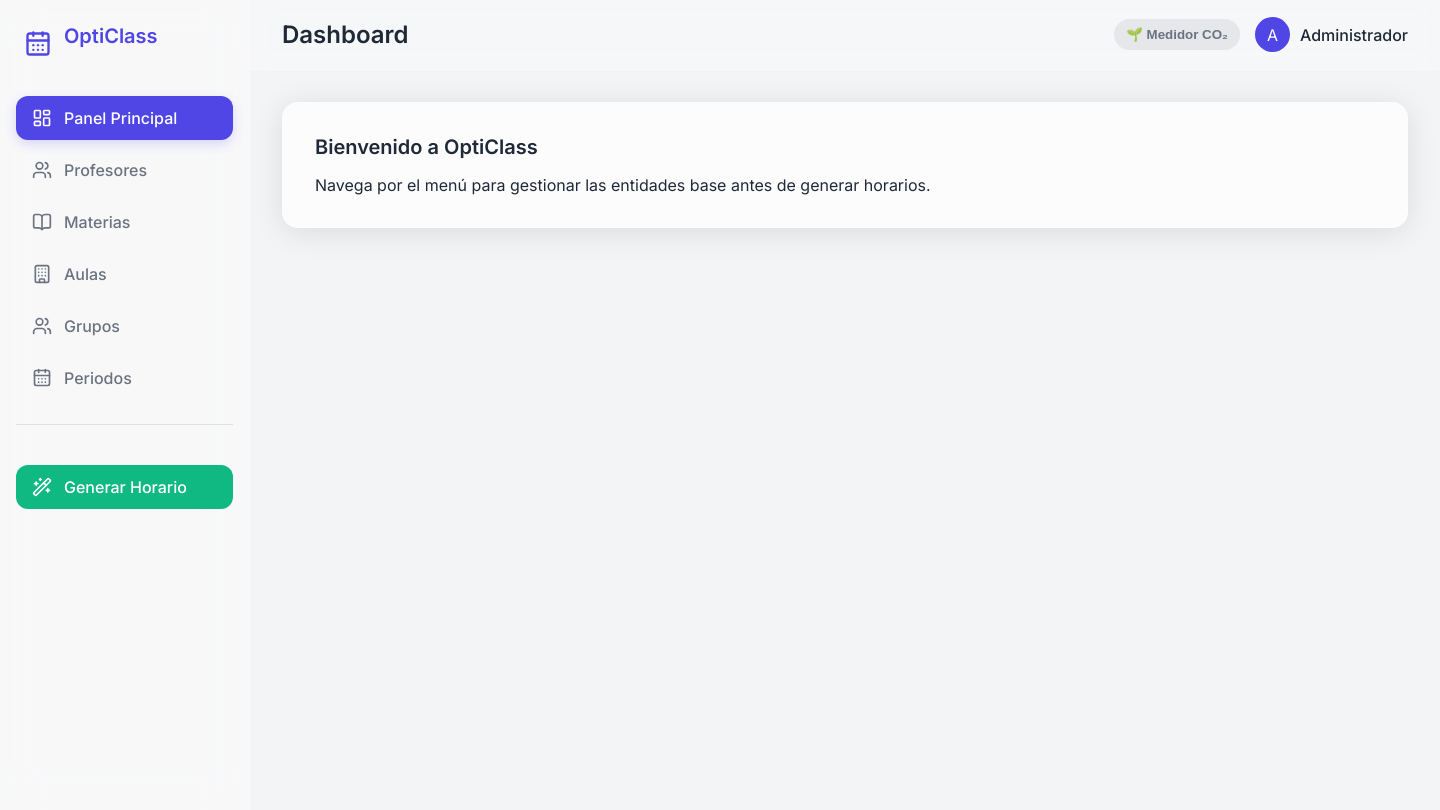
Test: App › navega a Aulas al hacer click en el sidebar
The width and height of the screenshot is (1440, 810).
Click the list item "Aulas". click: (69, 274)
box: [32,264,107,284]
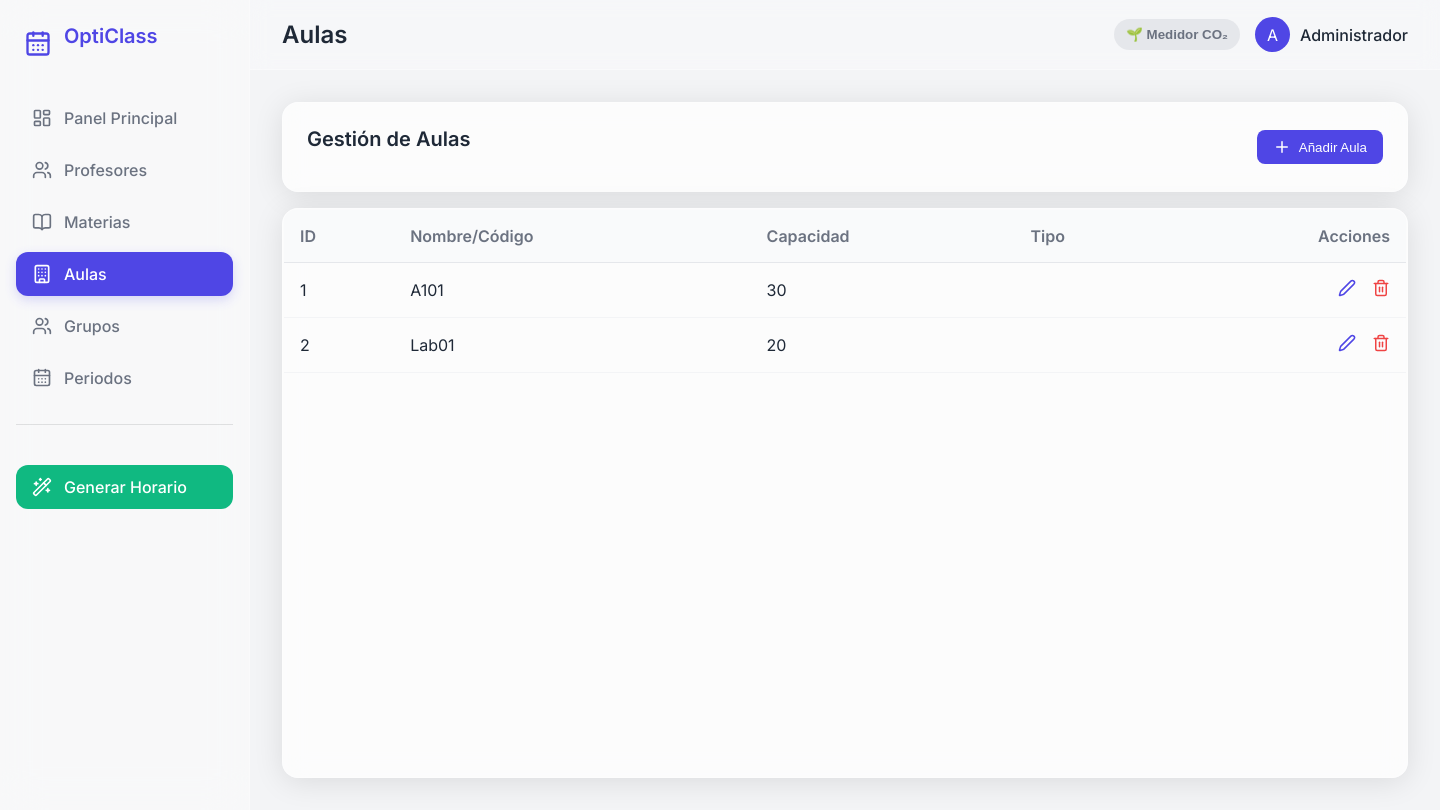
expect the heading "Gestión de Aulas" is shown: met, box [307,127,470,151]
